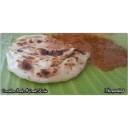parota: (11, 35, 84, 84)
